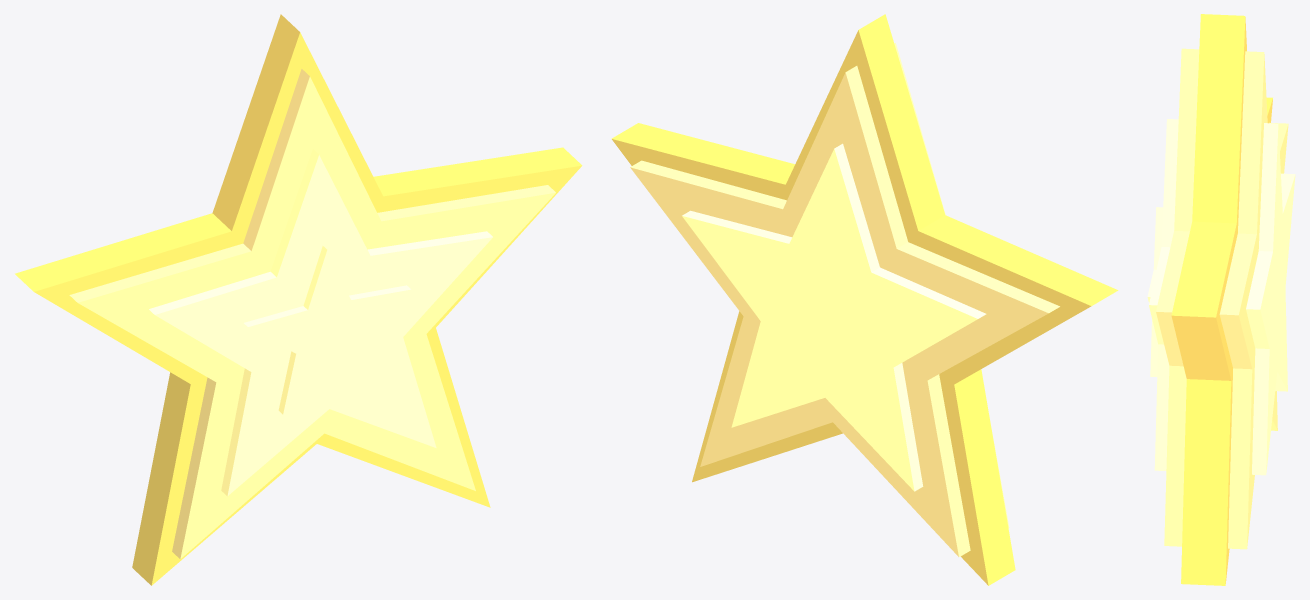
The model's file is victory-star.glb.
3 views of the same model, side by side, from view 1: azimuth 30°, elevation 25°; view 2: azimuth 150°, elevation 25°; view 3: azimuth 270°, elevation 25° (orthographic). The views are drawn at different scales.
Visible parts, largest first — view 1: Merged_reward-star-bevel, Merged_reward-star-gold, Merged_reward-star-face, Merged_reward-star-face-surface; view 2: Merged_reward-star-face, Merged_reward-star-bevel, Merged_reward-star-gold; view 3: Merged_reward-star-gold, Merged_reward-star-bevel, Merged_reward-star-face, Merged_reward-star-face-surface.
Part boxes in pixels (left/top/right/bottom): Merged_reward-star-bevel: left=69, top=69, right=555, bottom=559; Merged_reward-star-gold: left=15, top=14, right=582, bottom=585; Merged_reward-star-face: left=149, top=149, right=492, bottom=496; Merged_reward-star-face-surface: left=244, top=246, right=411, bottom=414; Merged_reward-star-face: left=682, top=143, right=986, bottom=491; Merged_reward-star-bevel: left=630, top=43, right=1059, bottom=556; Merged_reward-star-gold: left=611, top=14, right=1118, bottom=585; Merged_reward-star-gold: left=1171, top=14, right=1272, bottom=585; Merged_reward-star-bevel: left=1156, top=48, right=1288, bottom=549; Merged_reward-star-face: left=1149, top=119, right=1295, bottom=475; Merged_reward-star-face-surface: left=1147, top=207, right=1163, bottom=376.
Size of what is drawn, in the model's own units: 1.79 by 1.72 by 0.4625.
